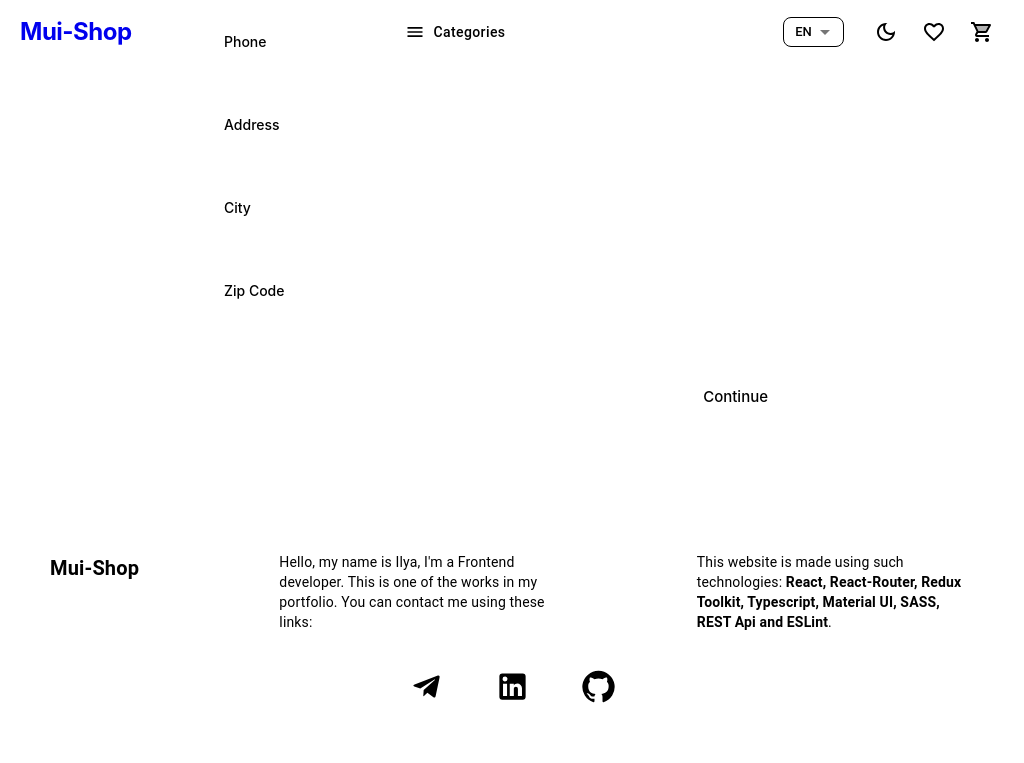
Checkout › validates address fields before proceeding
The image size is (1024, 763).
(page scrolled)
What coordinates should you click on to do the following:
click the button "Continue"
I would click on:
 (736, 396)
Its box is [671,373,800,420].
(page scrolled)
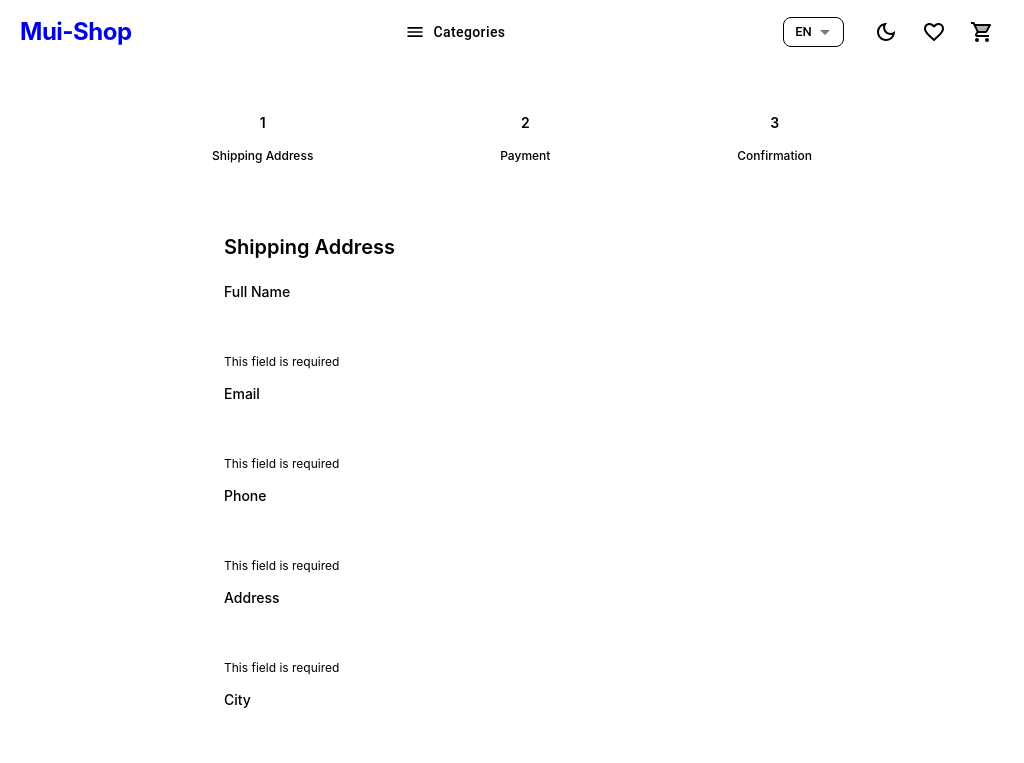
Result: the text "This field is required" below "Full Name" is shown at [224,354,339,369]
